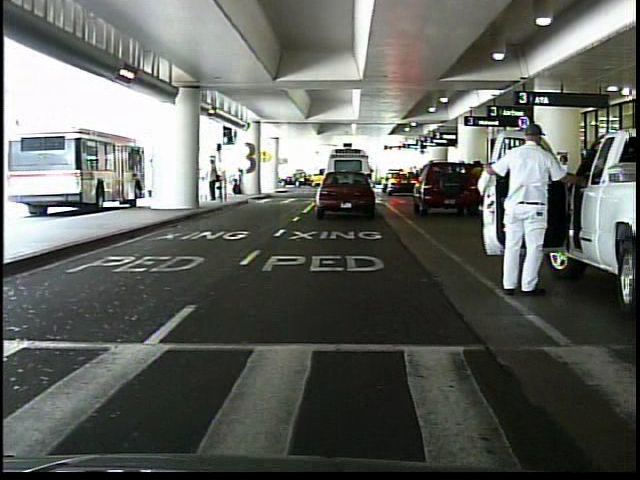person: (484, 118, 568, 300), (546, 149, 576, 226), (206, 155, 221, 204), (231, 163, 247, 199), (467, 157, 483, 177)
